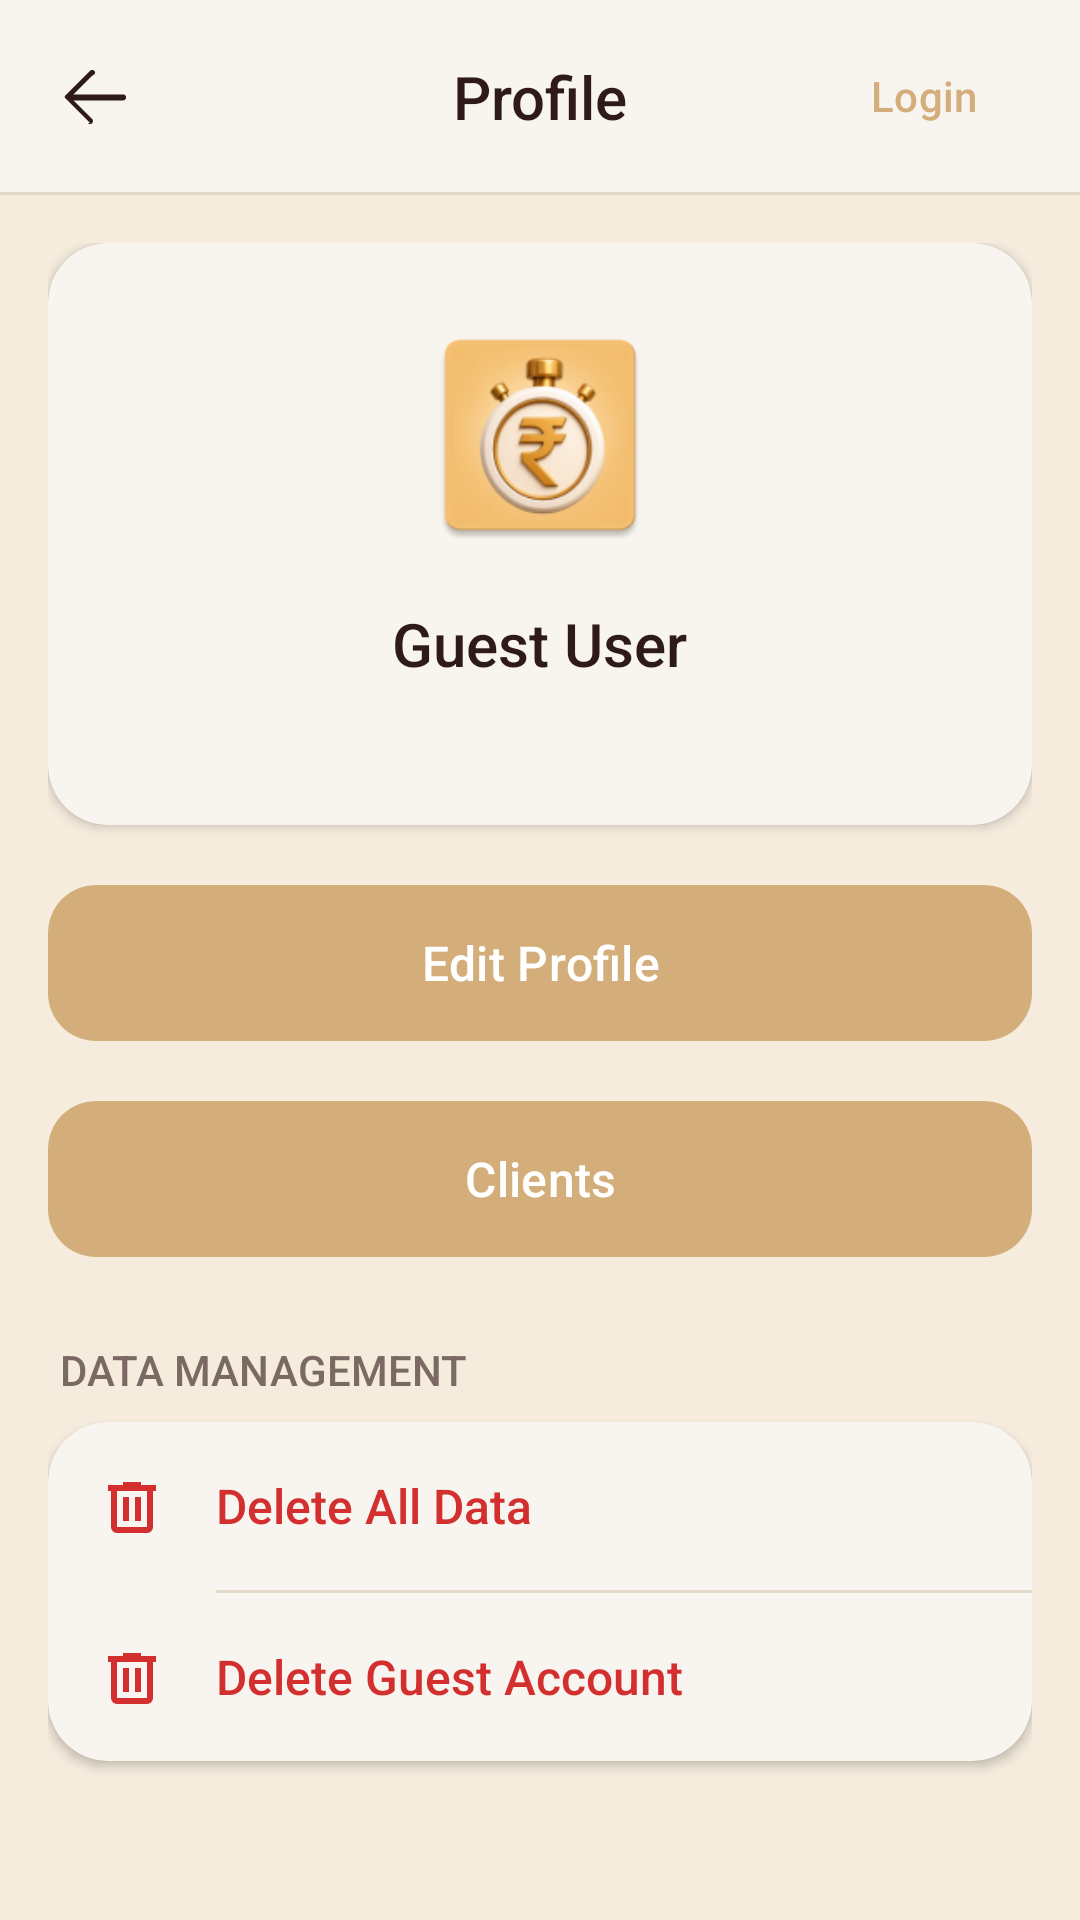

Named icons in this screenshot (1080x1920) and their centers, point (x, y):
delete rounded: point (132, 1507), point (132, 1678)
